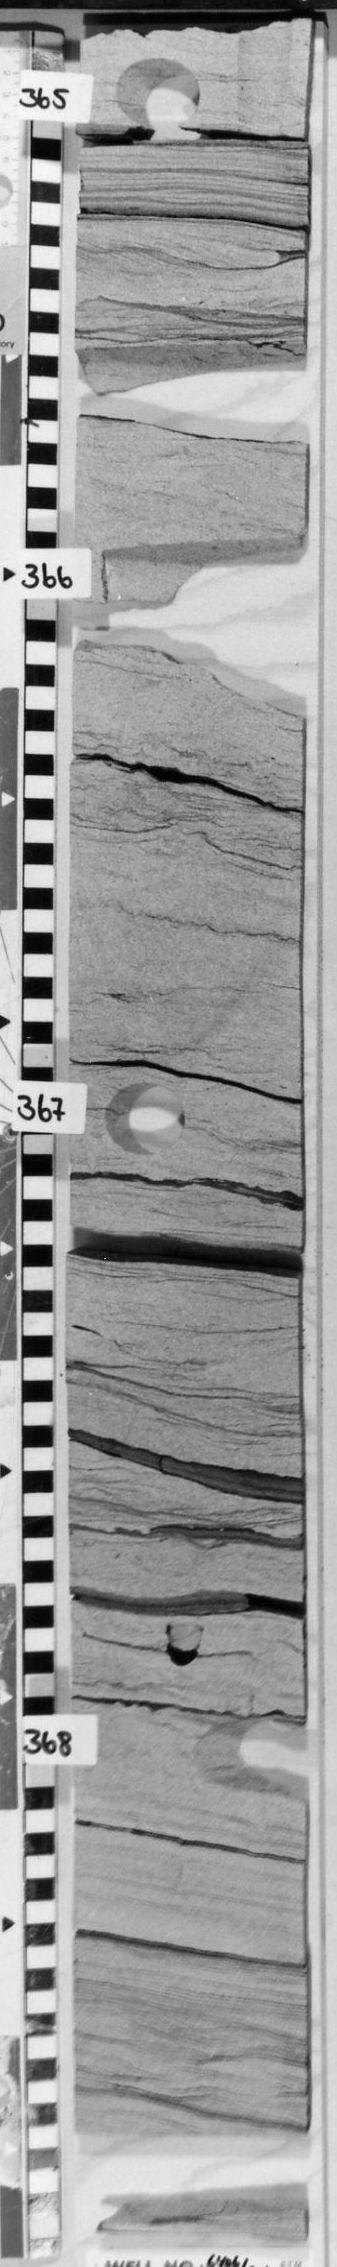hplug: (189, 1699, 308, 1807), (97, 1076, 198, 1160), (97, 539, 227, 603), (103, 56, 205, 133)
scal: (75, 2117, 305, 2234), (77, 337, 305, 454)
vplug: (158, 1616, 218, 1676)
